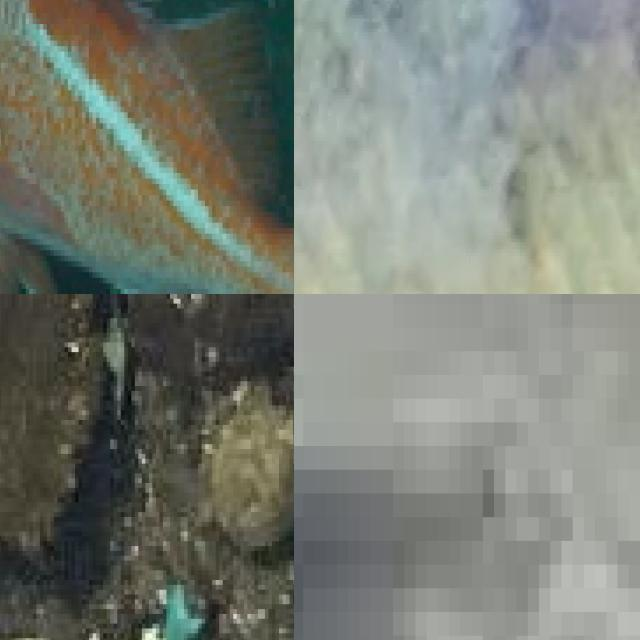fish: (0, 0, 294, 294), (149, 575, 223, 640)
